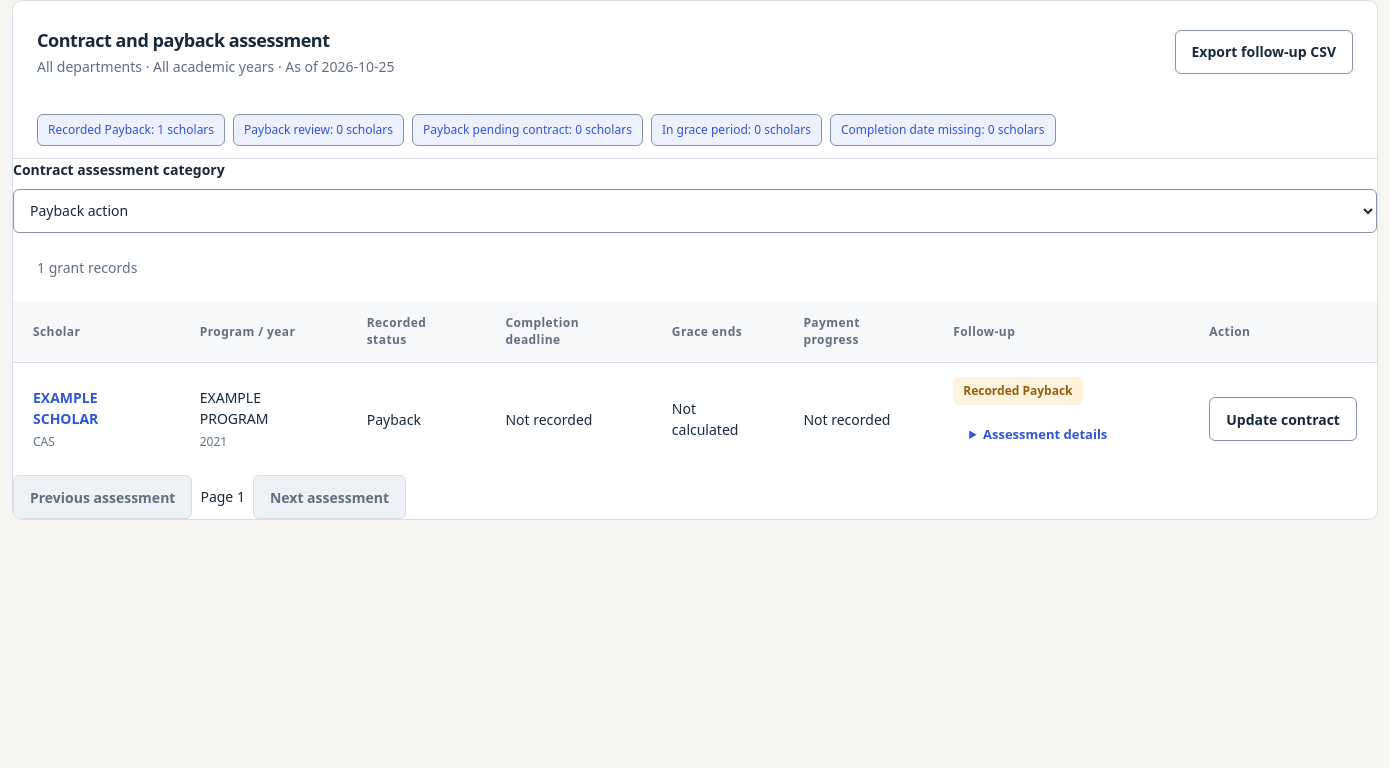
Test case: dashboard follow-up exposes the same explanation and preserves its recorded category
Click the heading "Assessment details": point(1045, 434) top-left (983, 425), bottom-right (1107, 443)
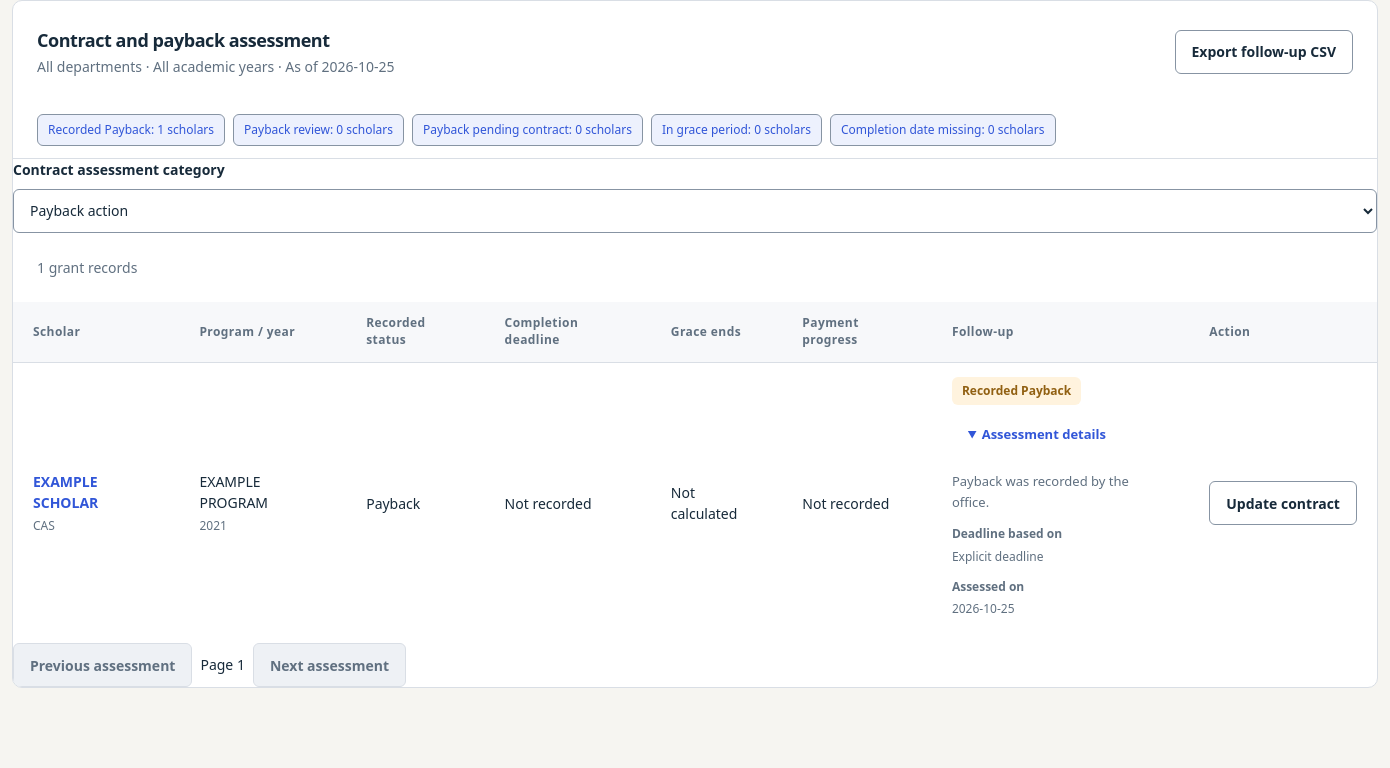
Result: the text "Payback was recorded by the office." is shown at top-left (952, 472), bottom-right (1129, 511)
Result: the text "2026-10-25" is shown at top-left (952, 600), bottom-right (1014, 617)
